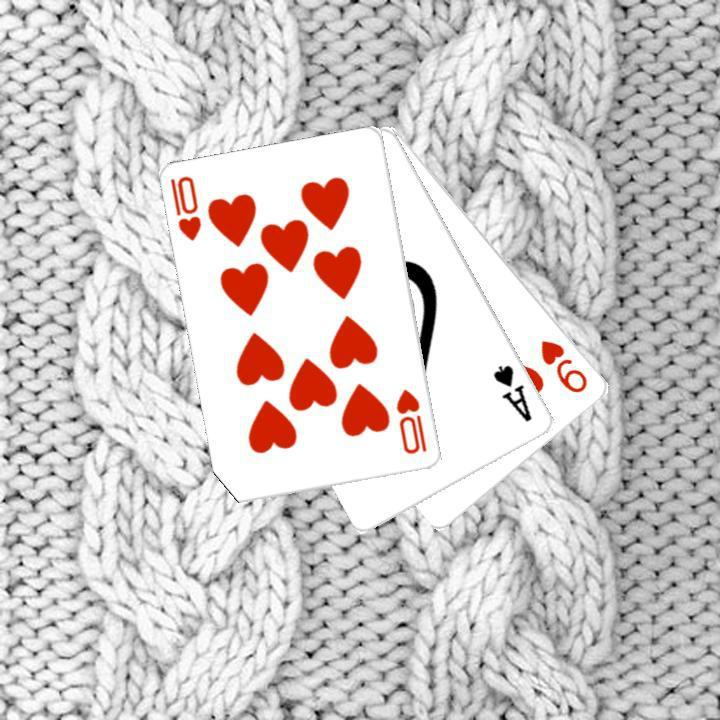10: (392, 385, 430, 457), (166, 172, 204, 244)
9: (536, 335, 591, 396)
A: (489, 360, 535, 424)
